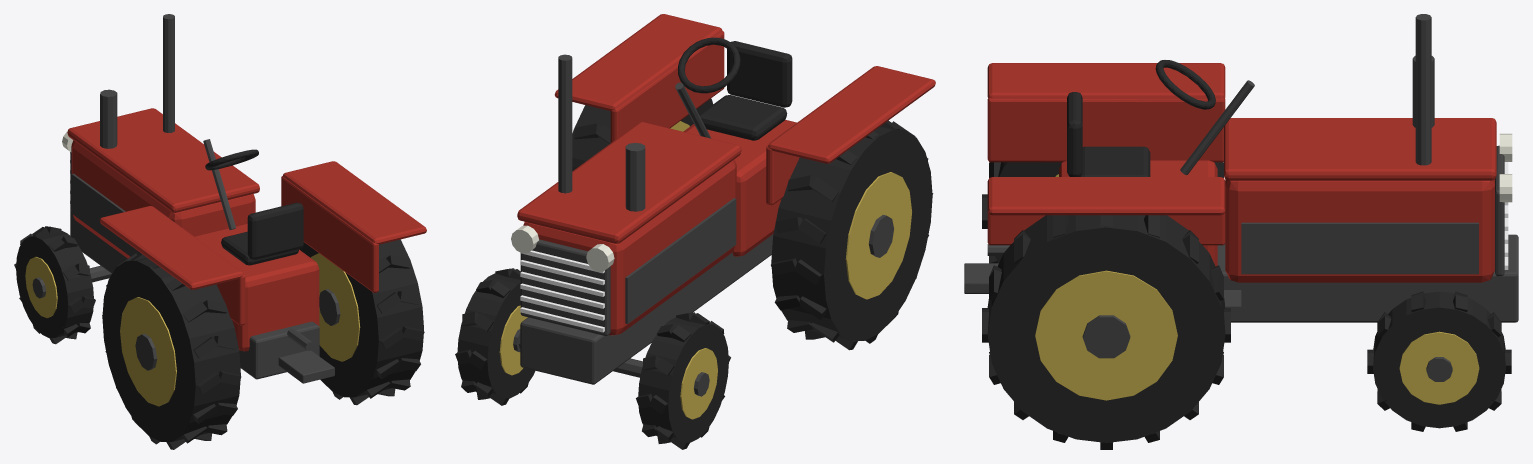
File: traktor.glb
The picture shows the model from 3 angles, left to right: view 1: azimuth 30°, elevation 25°; view 2: azimuth 150°, elevation 25°; view 3: azimuth 270°, elevation 25°; orthographic projection. The views are drawn at different scales.
Parts seen in each view (by area): view 1: Basamak; view 2: Basamak; view 3: Basamak.
Part boxes in pixels (bbox=[...]): Basamak: bbox=[14, 14, 426, 449]; Basamak: bbox=[455, 14, 935, 449]; Basamak: bbox=[964, 14, 1518, 449].
Bounding box in the file's own units: 0.629 × 0.763 × 1.
